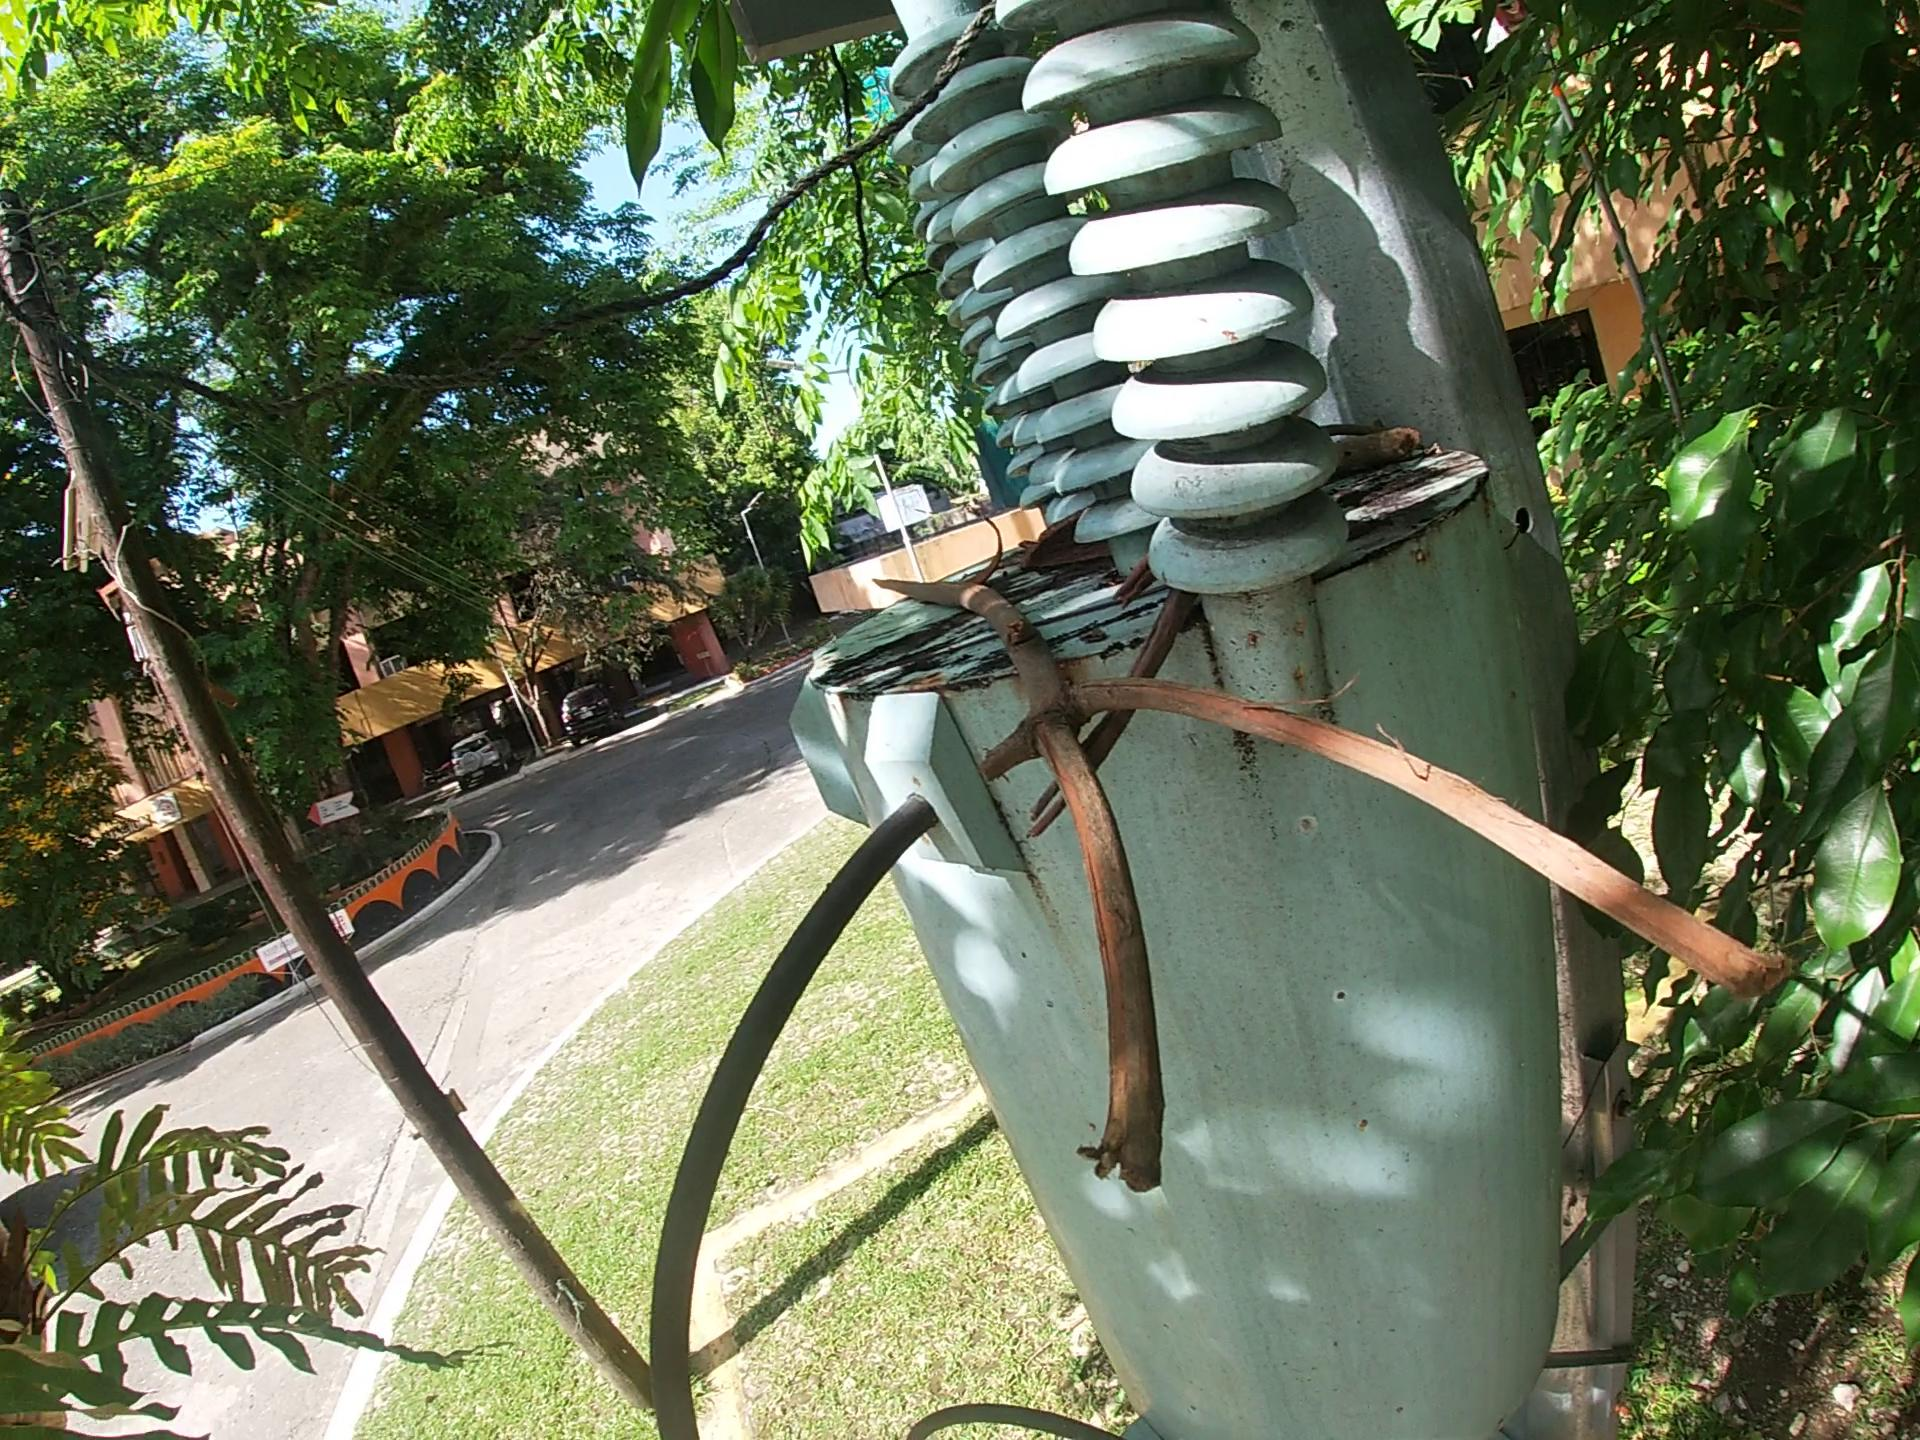mahogany fruit: (1013, 507, 1114, 579), (966, 511, 1005, 587)
tree branch: (859, 566, 1801, 1203), (1017, 554, 1203, 855), (1330, 424, 1424, 476)
